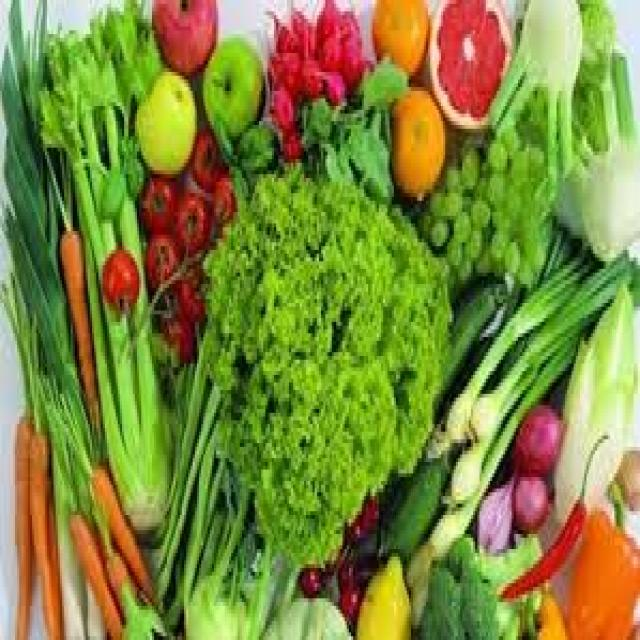Organik: (219, 180, 439, 550), (56, 24, 174, 522), (0, 3, 95, 462), (172, 370, 272, 640), (436, 276, 640, 390), (522, 478, 639, 640), (505, 0, 640, 135), (66, 436, 142, 640), (428, 140, 540, 278), (8, 357, 60, 635), (150, 139, 221, 333), (567, 327, 640, 491), (419, 535, 526, 640), (556, 132, 640, 249), (436, 0, 514, 125), (488, 397, 556, 537), (270, 0, 354, 112), (443, 393, 488, 555), (202, 33, 266, 137), (396, 86, 443, 200), (154, 0, 218, 73), (375, 0, 428, 72), (106, 240, 145, 318)
